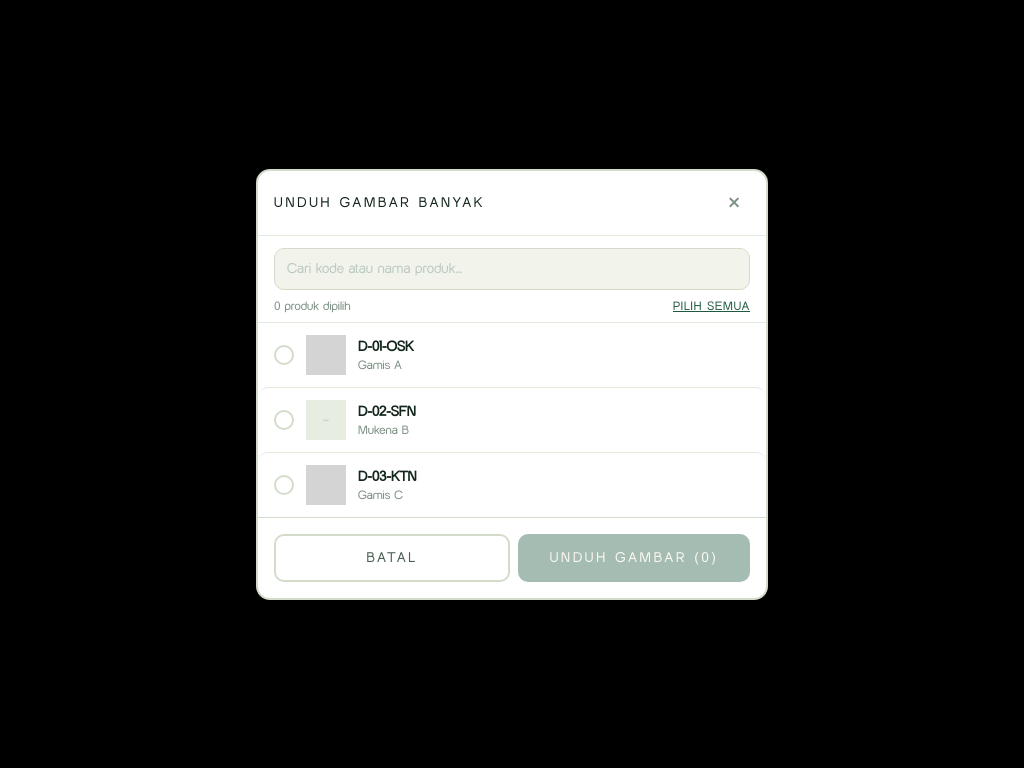
Test case: BulkSaveImageModal › klik produk yang sudah dipilih membatalkan pilihan (toggle)
The width and height of the screenshot is (1024, 768).
Step 1. Click the text "D-01-OSK" → (386, 346), box [358,338,413,354]
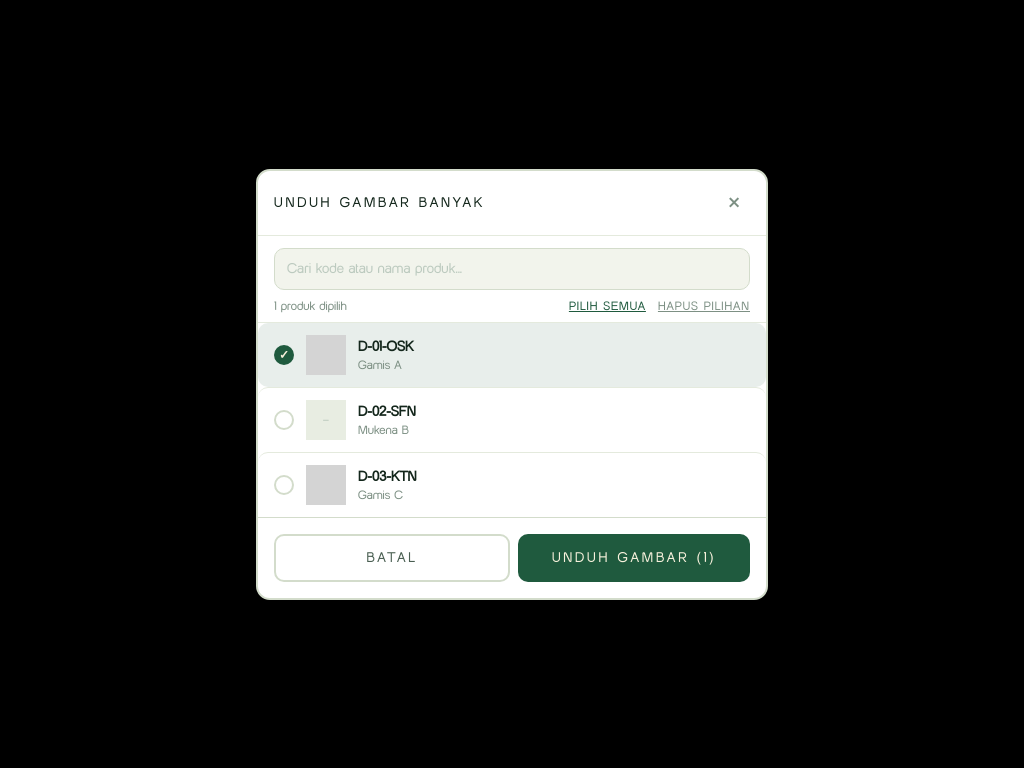
Step 2. Click the text "D-01-OSK" → (386, 346), box [358,338,413,354]
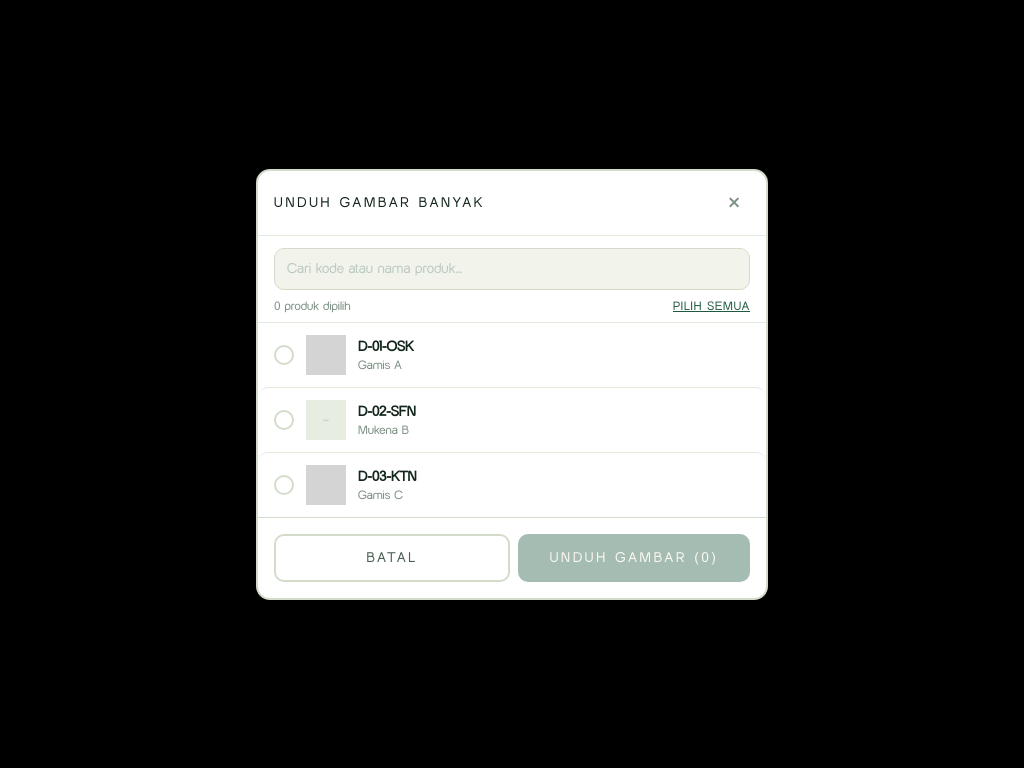
Now the text "0 produk dipilih" is shown, box [274,298,350,314]
